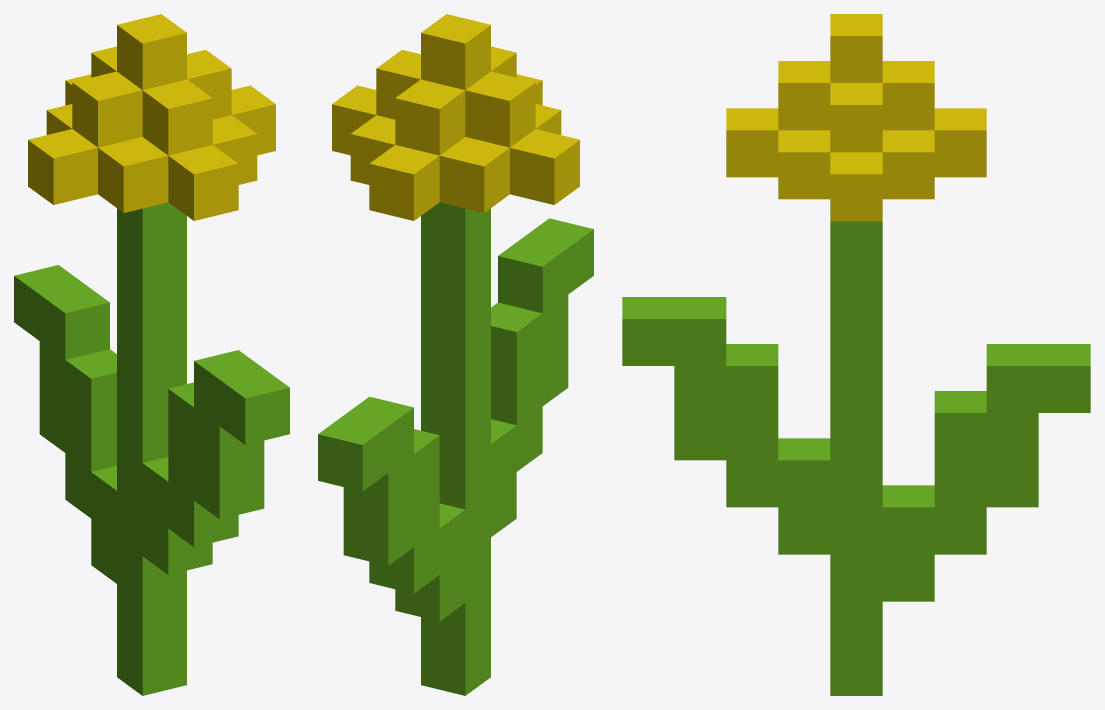
Rendered from Yellow flower.fbx.
The picture shows the model from 3 angles, left to right: view 1: azimuth 30°, elevation 25°; view 2: azimuth 150°, elevation 25°; view 3: azimuth 270°, elevation 25°; orthographic projection.
Parts seen in each view (by area): view 1: Untitled; view 2: Untitled; view 3: Untitled.
Part boxes in pixels (<box>): Untitled: <box>14,14,289,695</box>; Untitled: <box>318,14,593,695</box>; Untitled: <box>622,14,1090,695</box>.
Size of the model in its own units: 50 by 140 by 90.
